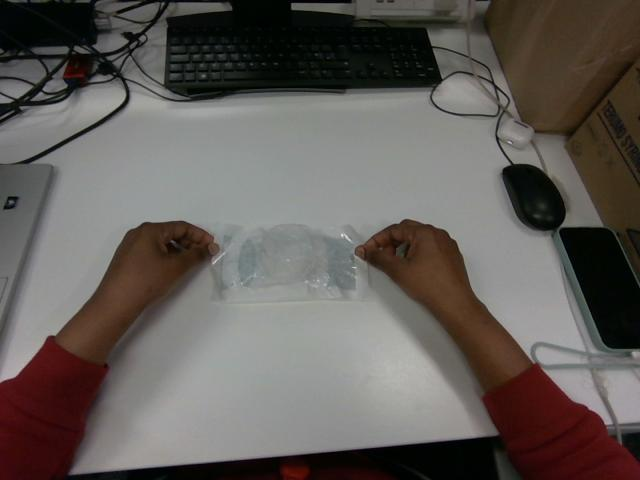gallipot: (212, 224, 367, 302)
